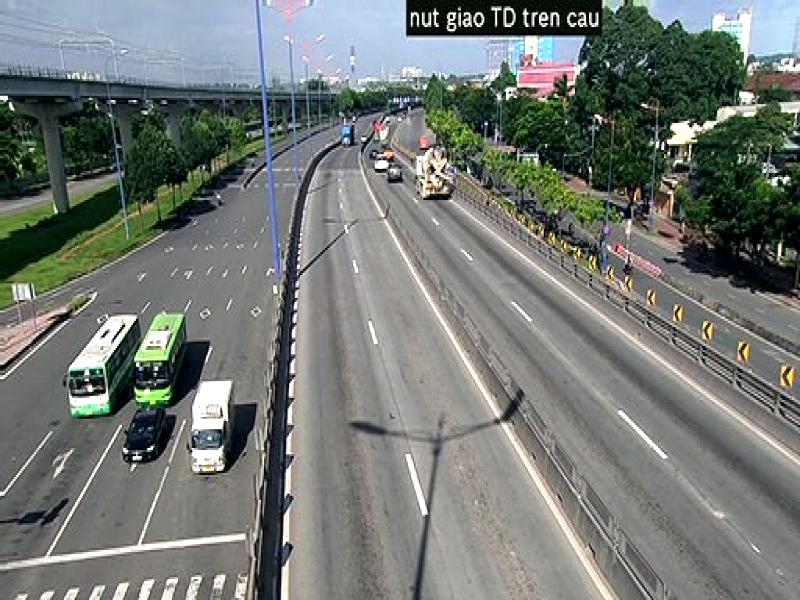bus: (64, 312, 140, 418), (132, 302, 194, 411)
truck: (190, 372, 236, 474)
